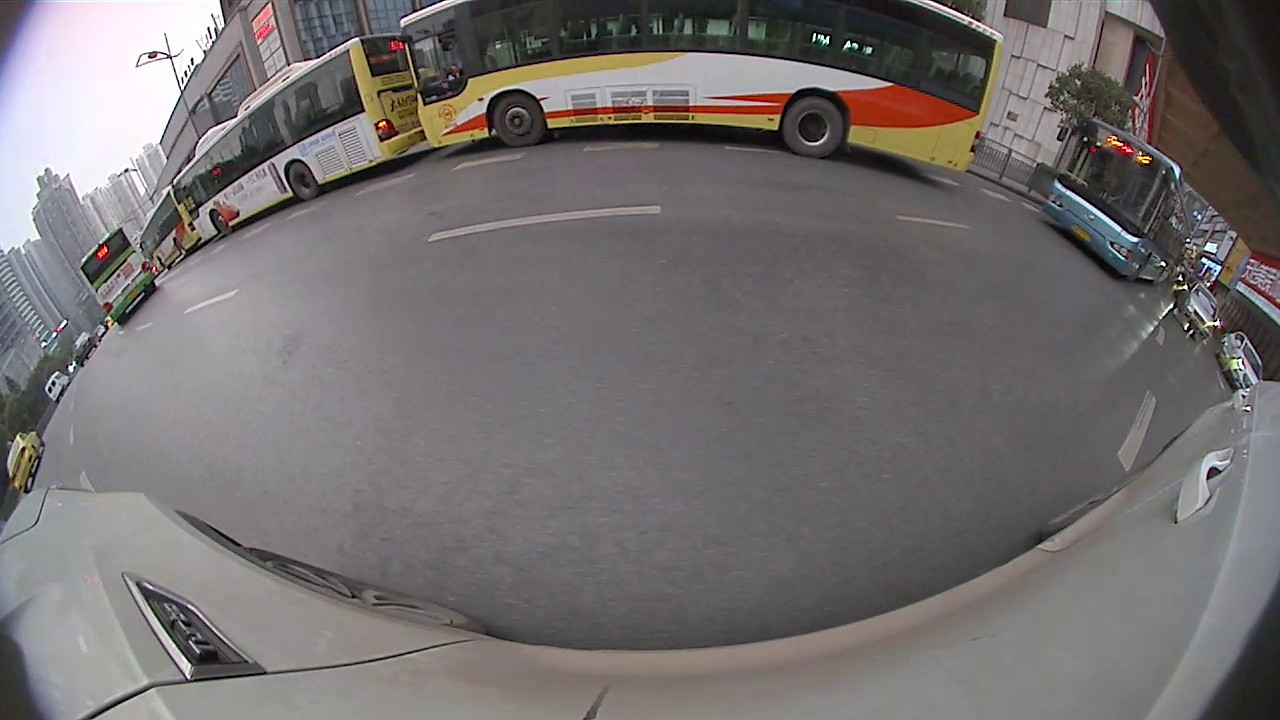bus: (394, 0, 1003, 182), (169, 30, 419, 249), (1050, 114, 1194, 290), (74, 231, 162, 328), (138, 182, 200, 274)
car: (1218, 330, 1270, 391), (0, 428, 48, 494), (1180, 288, 1223, 333)
front: (492, 94, 546, 147)
rear: (789, 94, 846, 160), (284, 162, 323, 202)
